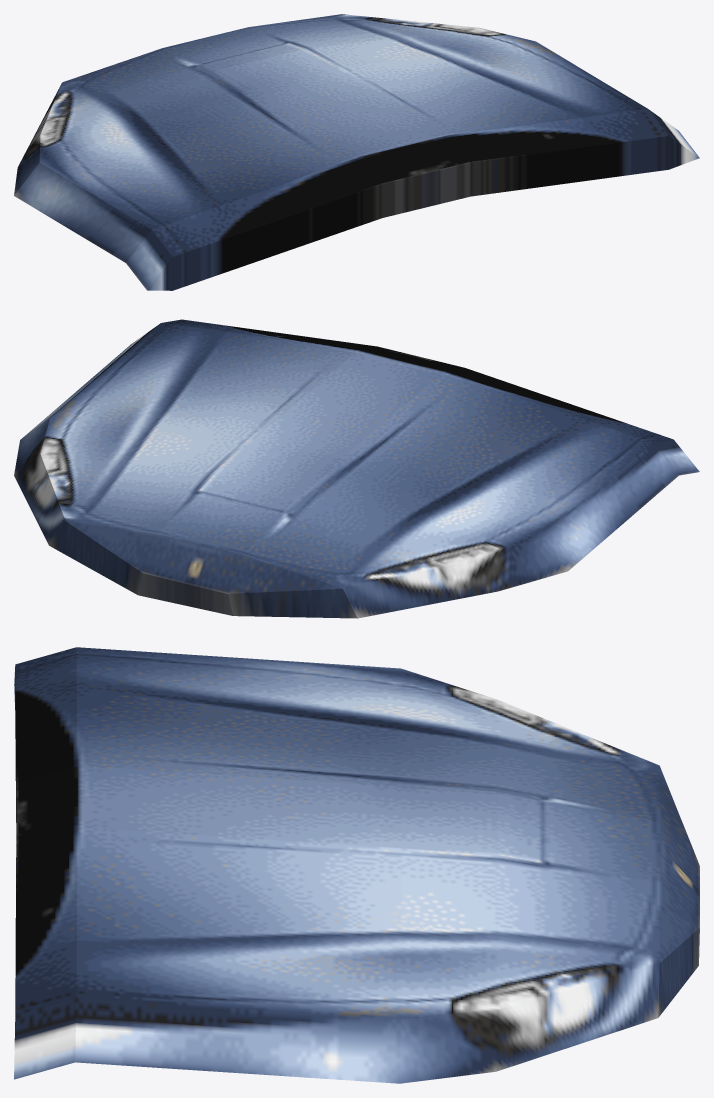
The model's file is Capot.fbx.
The picture shows the model from 3 angles, top to bottom: view 1: azimuth 30°, elevation 25°; view 2: azimuth 150°, elevation 25°; view 3: azimuth 270°, elevation 25°; orthographic projection. The views are drawn at different scales.
Parts seen in each view (by area): view 1: Capot; view 2: Capot; view 3: Capot.
Part boxes in pixels (x1,y1,x2,y2): Capot: [14, 14, 699, 290]; Capot: [14, 319, 699, 618]; Capot: [14, 647, 699, 1083].
Bounding box in the file's own units: 394 × 62.76 × 292.
Materials: 1 (1 with a texture image).
